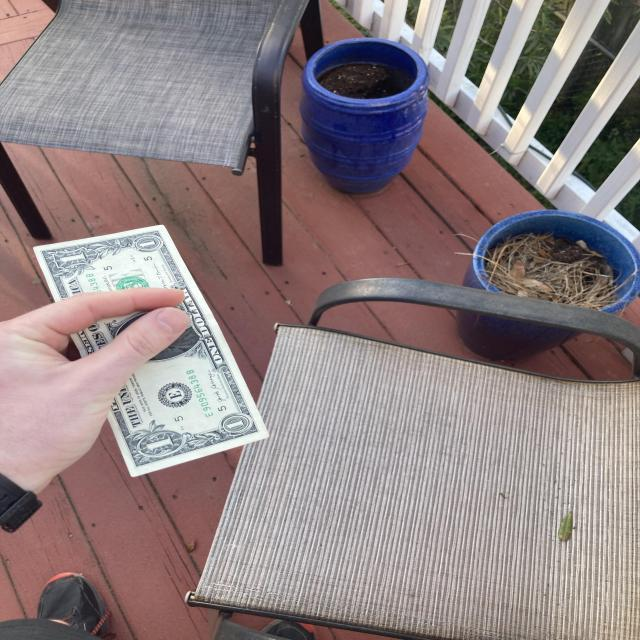one: (33, 225, 272, 478)
